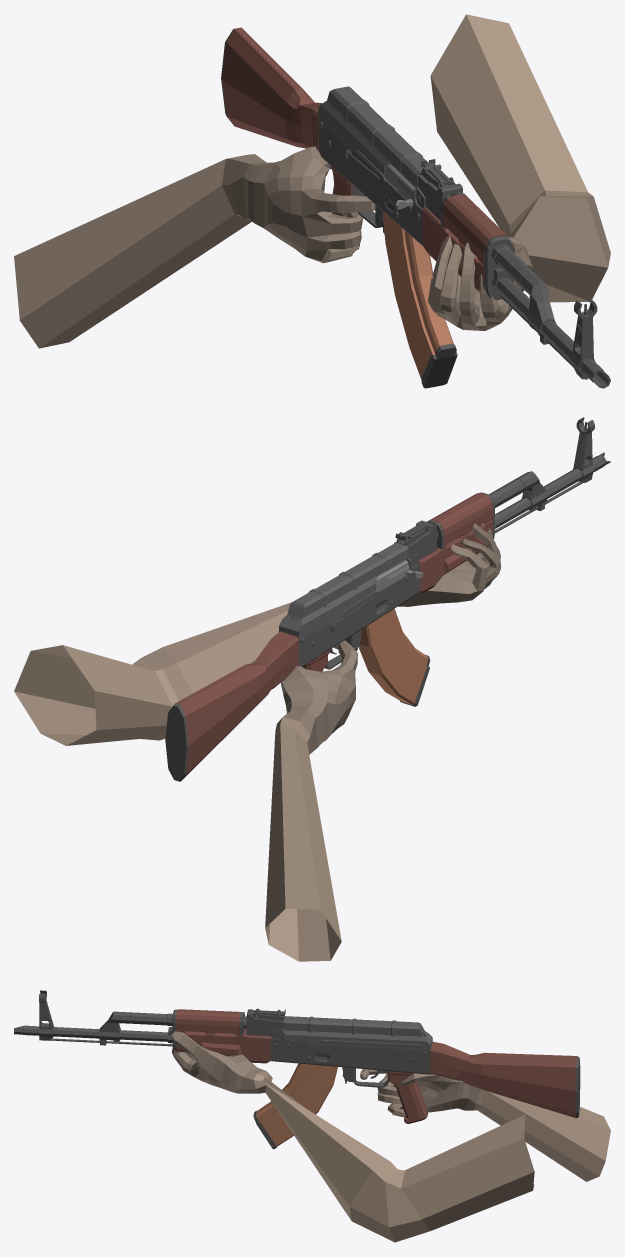
The model's file is hands_ak.fbx.
The picture shows the model from 3 angles, top to bottom: view 1: azimuth 30°, elevation 25°; view 2: azimuth 150°, elevation 25°; view 3: azimuth 270°, elevation 25°; orthographic projection. The views are drawn at different scales.
Parts seen in each view (by area): view 1: pasted__pasted__pasted__group_pasted__polySurface528; view 2: pasted__pasted__pasted__group_pasted__polySurface528; view 3: pasted__pasted__pasted__group_pasted__polySurface528.
Boxes of the visible parts, <box> form: pasted__pasted__pasted__group_pasted__polySurface528: <box>14,14,610,388</box>; pasted__pasted__pasted__group_pasted__polySurface528: <box>14,417,610,961</box>; pasted__pasted__pasted__group_pasted__polySurface528: <box>14,990,610,1242</box>.
Size of the model in its own units: 45.14 by 32.68 by 83.15.
